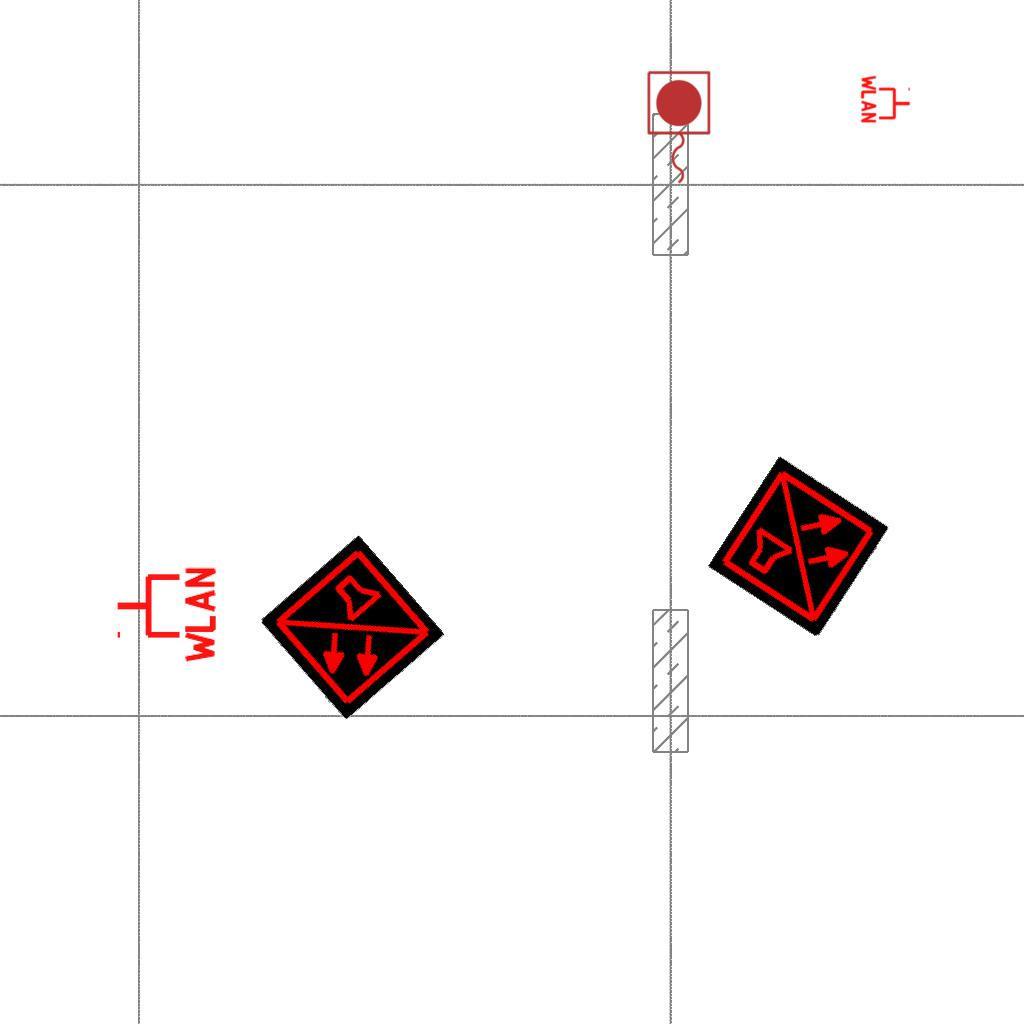OKW_Multisensormelder_(Kombination_optischer_Rauch-Kahlenmonoxid_Waerme-Melder): (258, 534, 446, 722), (707, 455, 891, 639)
WLAN: (113, 563, 218, 667), (860, 73, 912, 125)
Zugtaster: (642, 67, 714, 189)
